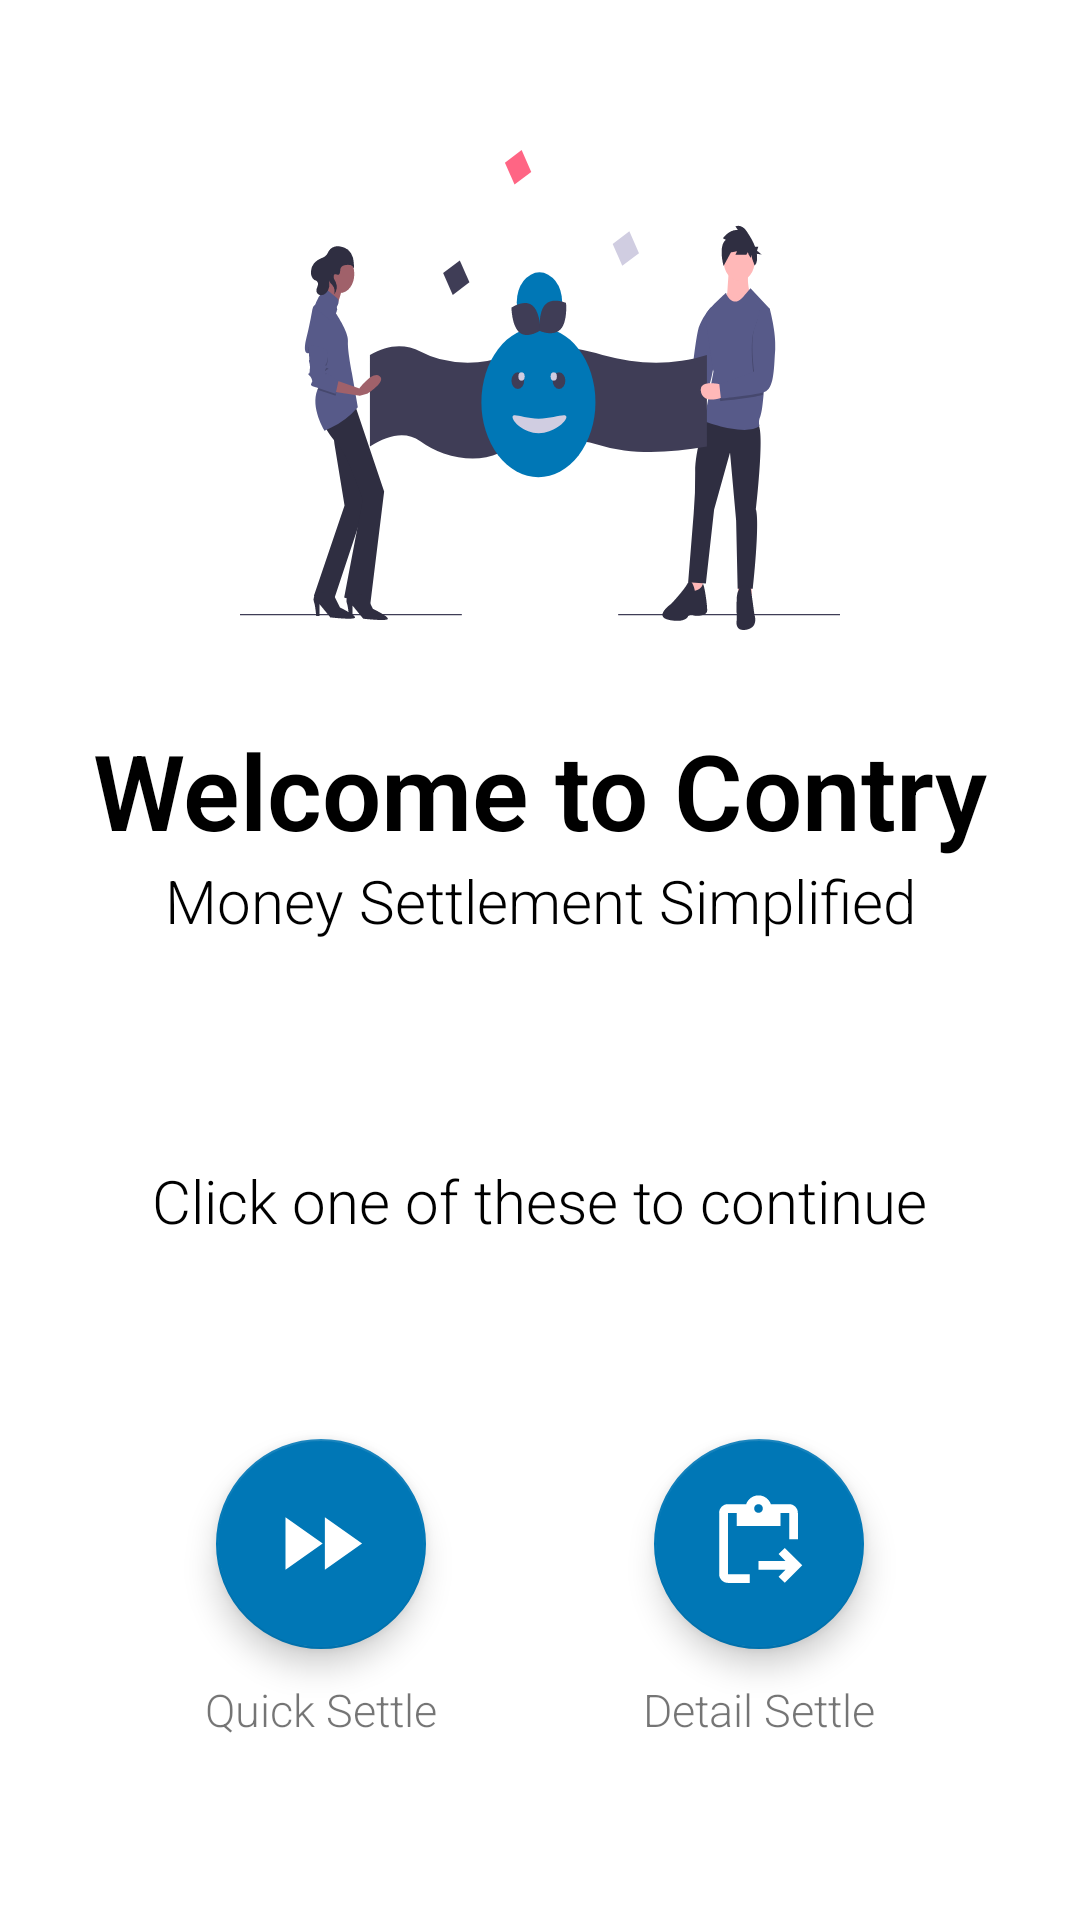

Where to tap for icons on this 1080px×1920px app screen, as (x,y):
content paste go: (759,1544)
fast forward: (321,1544)
